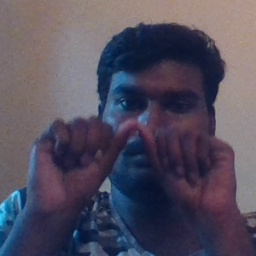A: (61, 109, 207, 214)
